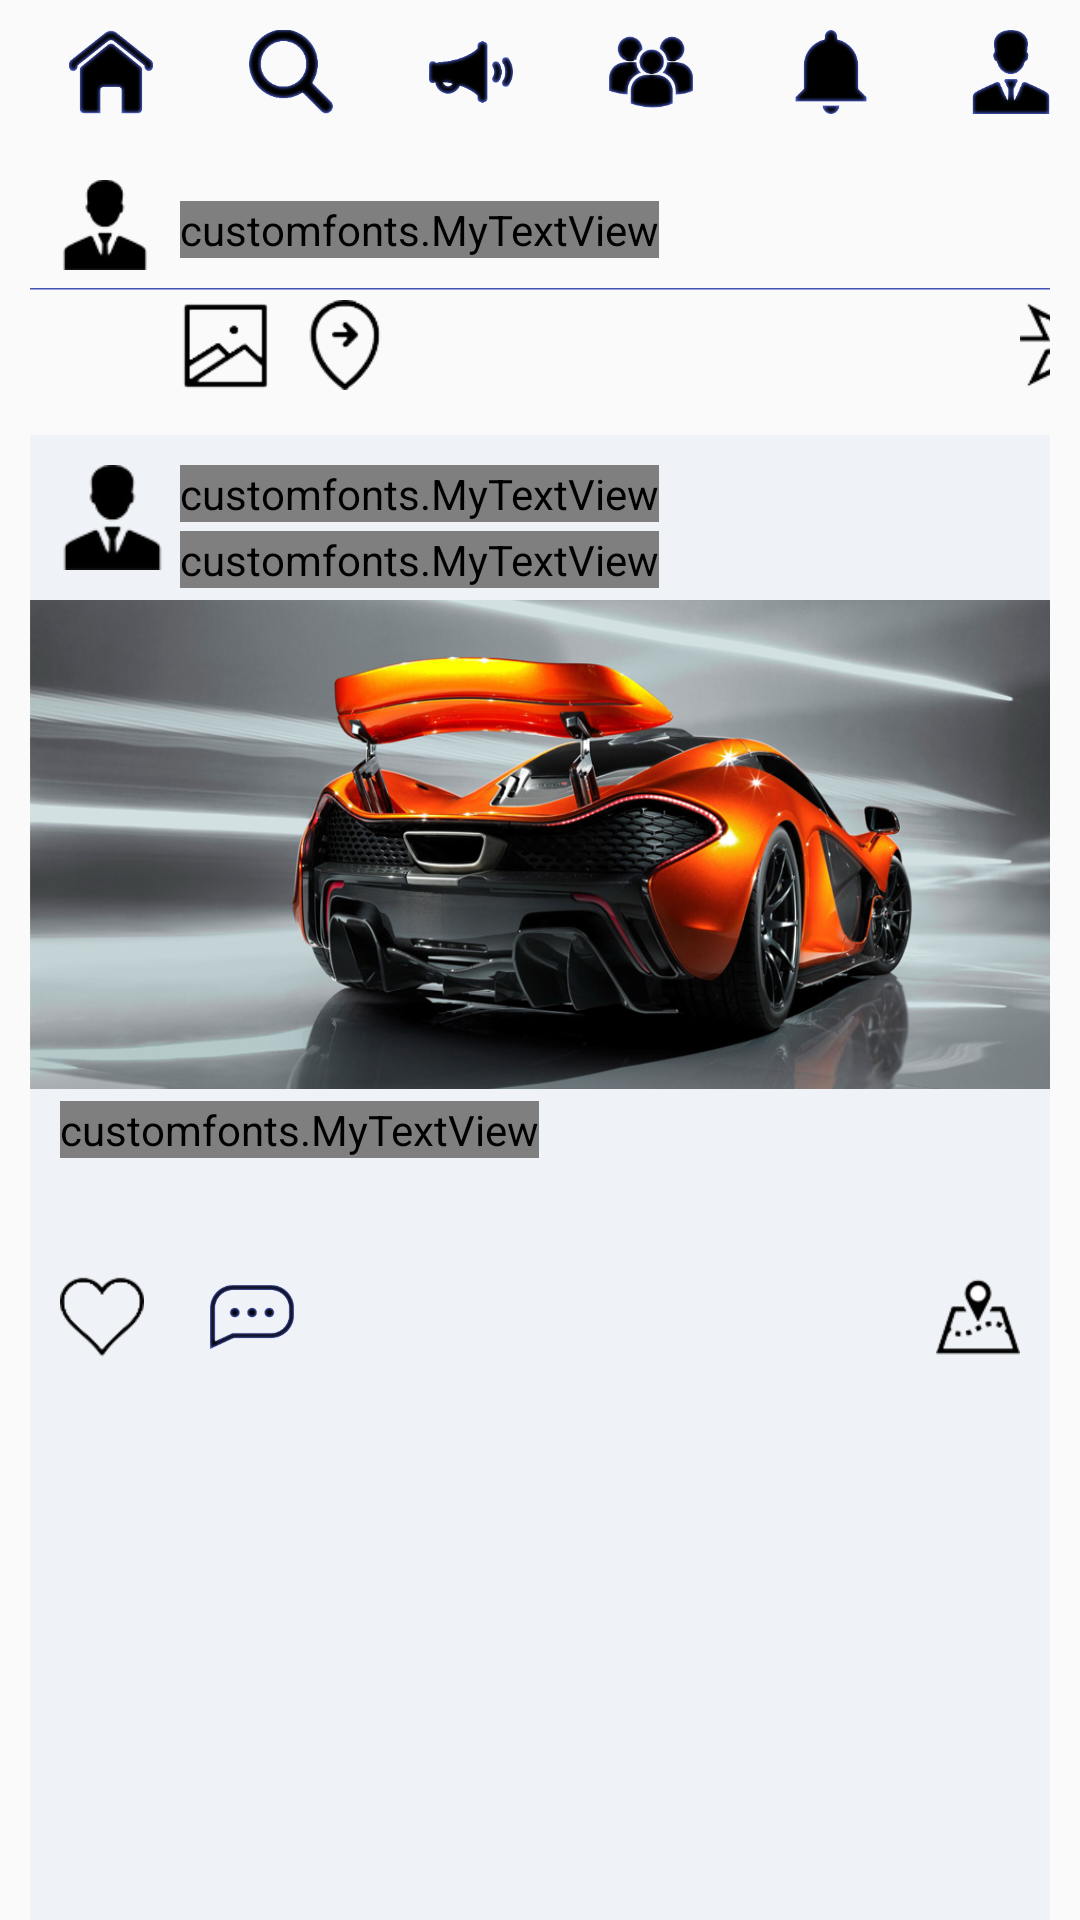

Icon click points for this 1080 × 1920 phone screenshot, format point (x, y):
addlocation: point (344, 345)
addphoto: point (225, 346)
comment: point (252, 1317)
friend: point (651, 72)
home: point (111, 72)
love: point (102, 1316)
maps: point (978, 1317)
notif: point (831, 72)
promoted: point (471, 72)
search: point (291, 72)
user: point (1011, 72), point (105, 225), point (112, 517)
